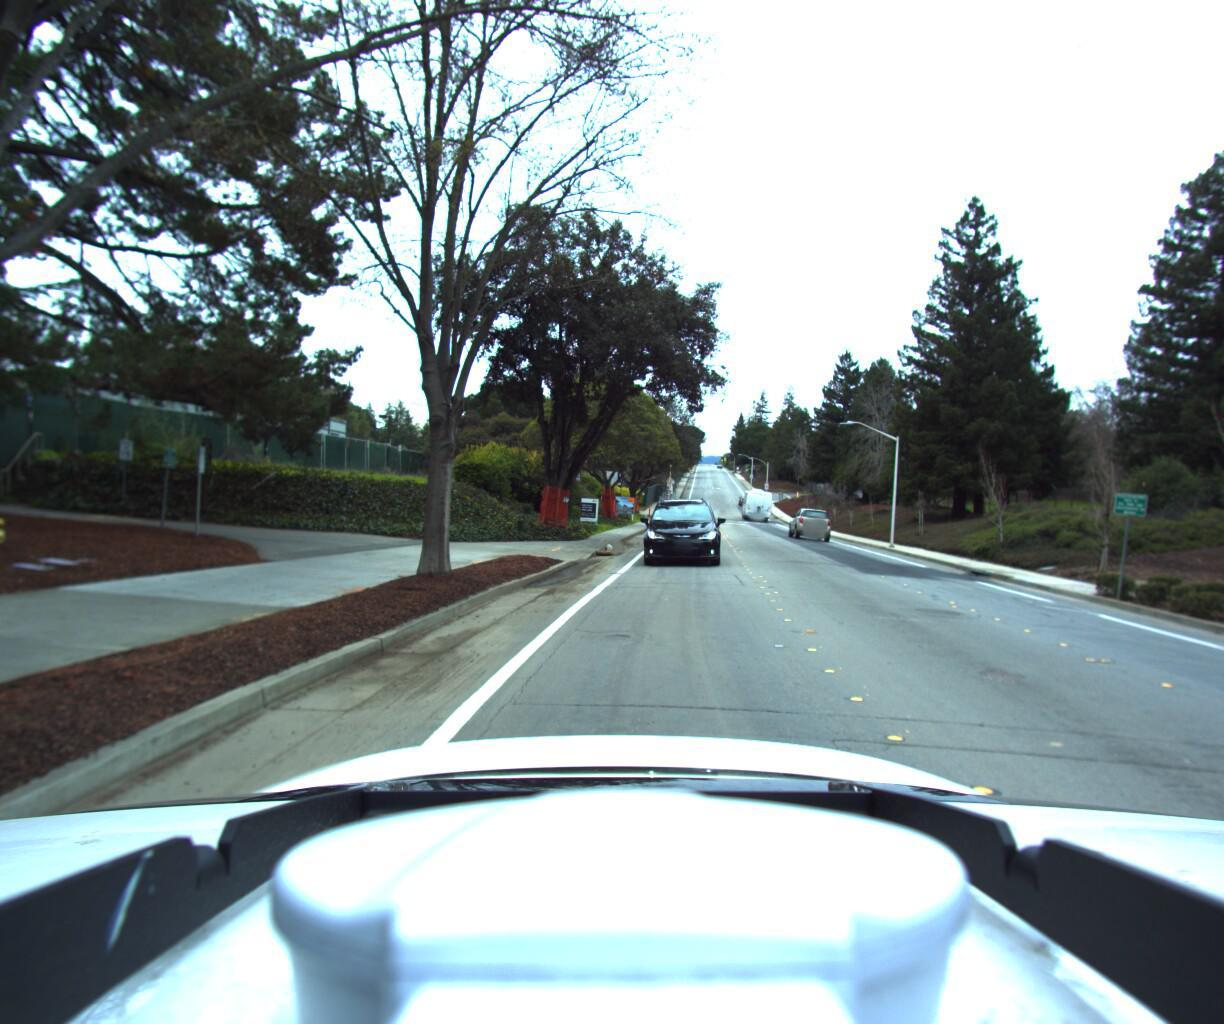bus: (740, 487, 772, 522)
car: (631, 485, 721, 573), (781, 506, 828, 544)
